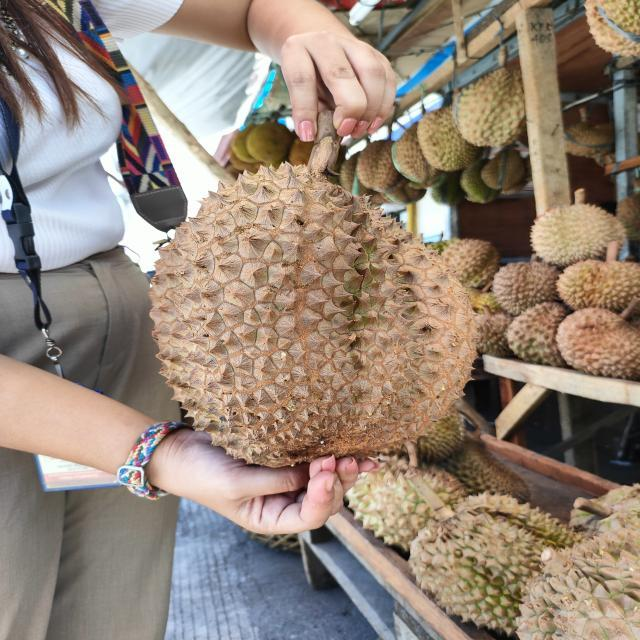mature: (141, 161, 486, 463)
